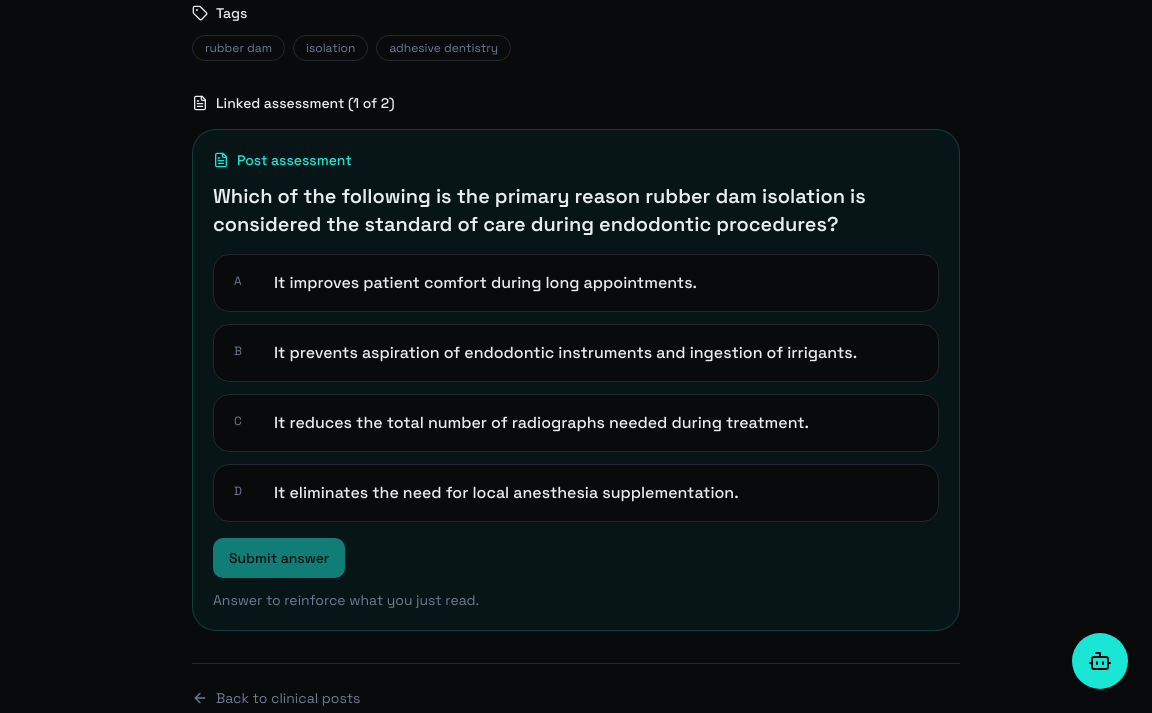
Scenario: clinical posts › allows navigating to the next linked assessment question
This screenshot has width=1152, height=713.
(page scrolled)
Check: the text "Linked assessment (1 of 2)" is shown, box [192,94,394,112]
Step 1. Click the button "prevents aspiration" → (576, 353), box [213,324,939,382]
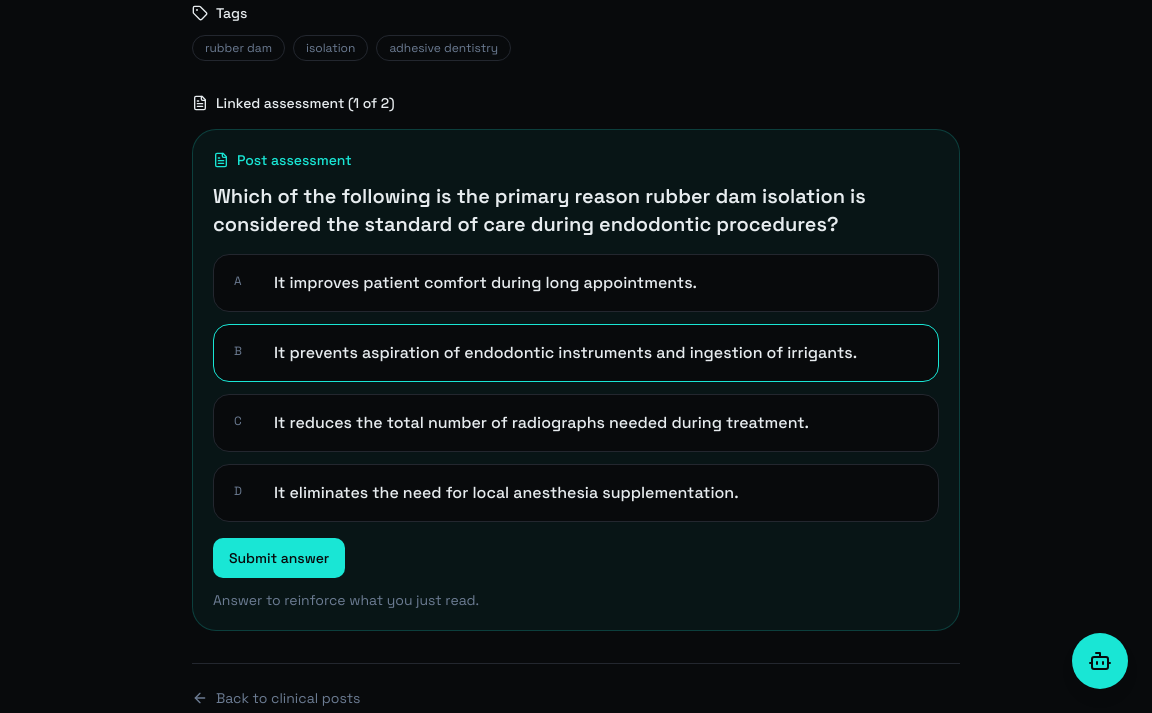
Step 2. Click the button "Submit answer" → (279, 558), box [213,538,345,578]
(page scrolled)
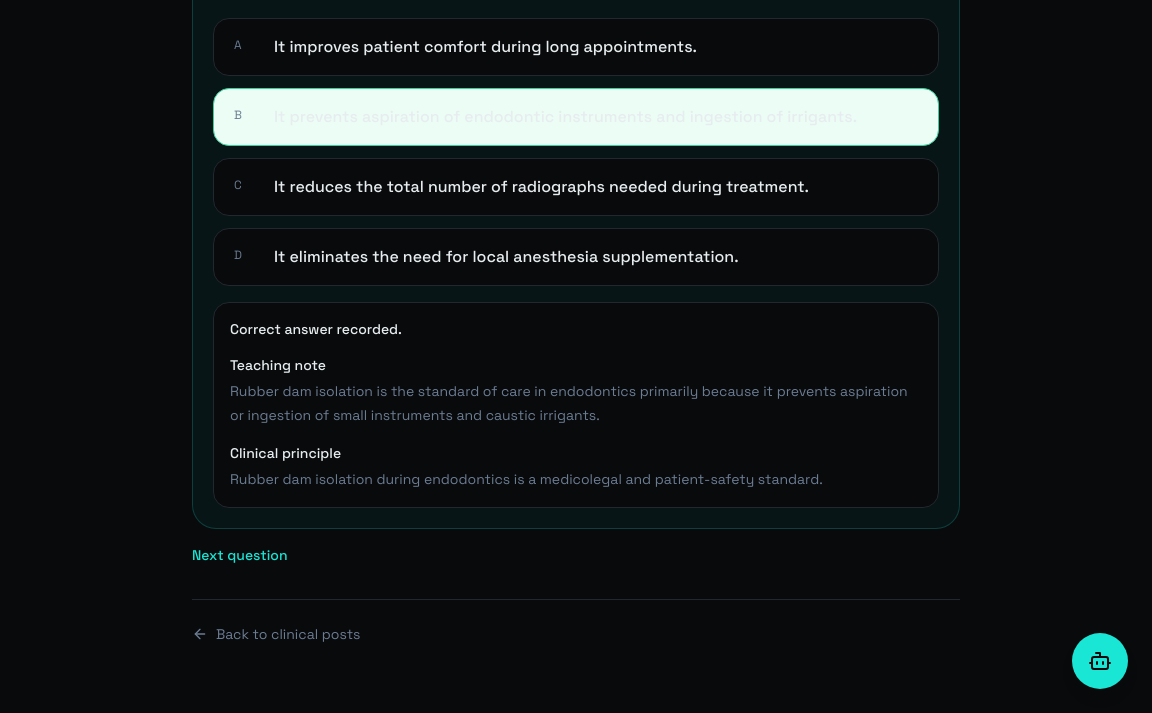
Check: the button "Next question" is shown
Step 3. Click the button "Next question" → (240, 555), box [192,545,288,565]
(page scrolled)
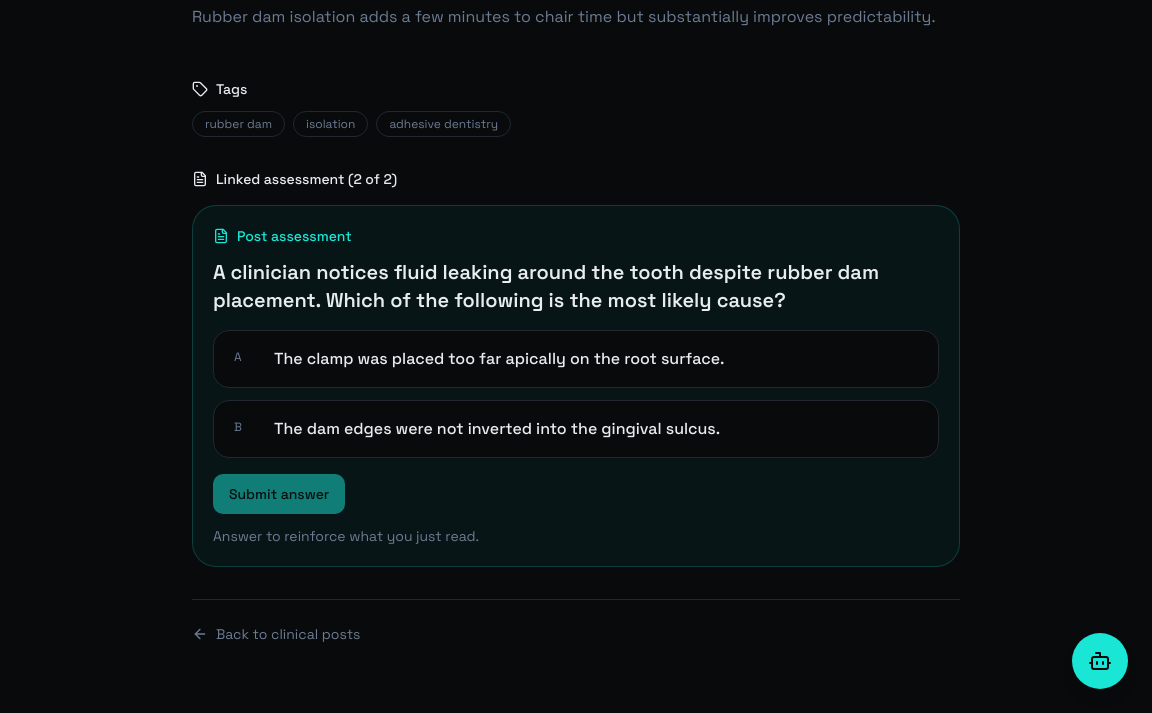
Check: the heading "fluid leaking around the tooth" is shown, box [213,259,879,313]
Check: the text "Linked assessment (2 of 2)" is shown, box [192,170,397,188]
